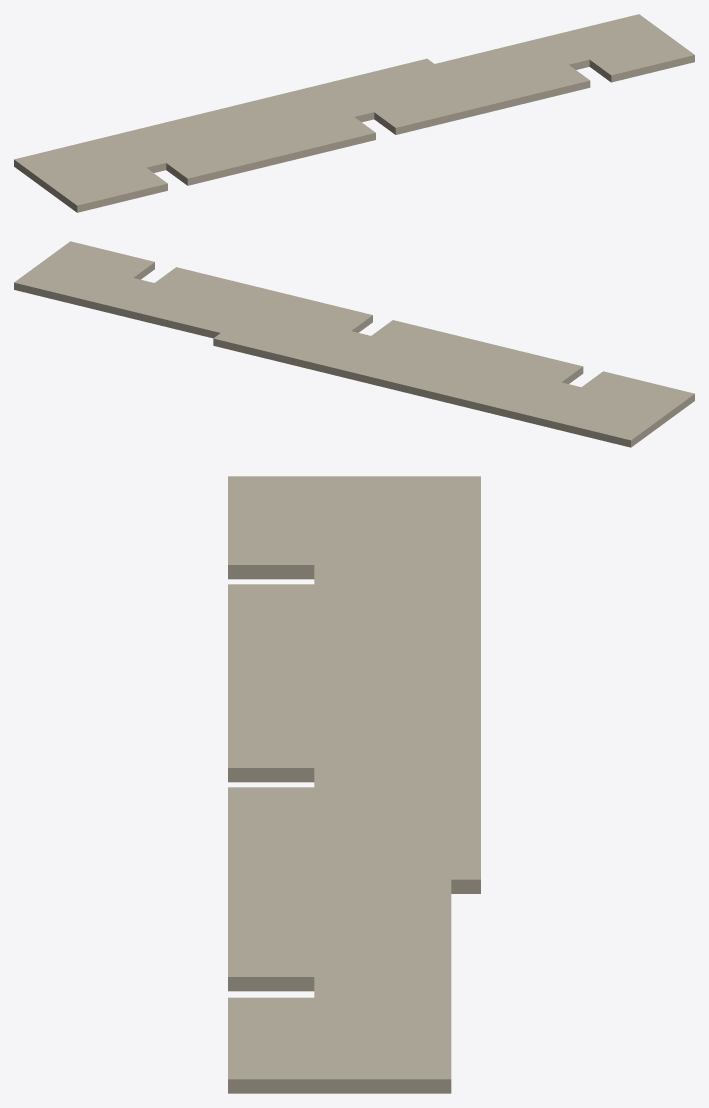
The picture shows the model from 3 angles, top to bottom: view 1: azimuth 30°, elevation 25°; view 2: azimuth 150°, elevation 25°; view 3: azimuth 270°, elevation 25°; orthographic projection. The views are drawn at different scales.
Visible parts, largest first — view 1: A-FF-SLAB; view 2: A-FF-SLAB; view 3: A-FF-SLAB.
Boxes of the visible parts, left/top/right/bottom form: A-FF-SLAB: left=14, top=14, right=694, bottom=212; A-FF-SLAB: left=14, top=241, right=694, bottom=447; A-FF-SLAB: left=228, top=476, right=480, bottom=1093.
Bounding box in the file's own units: 26.55 × 0.295 × 4.7.
